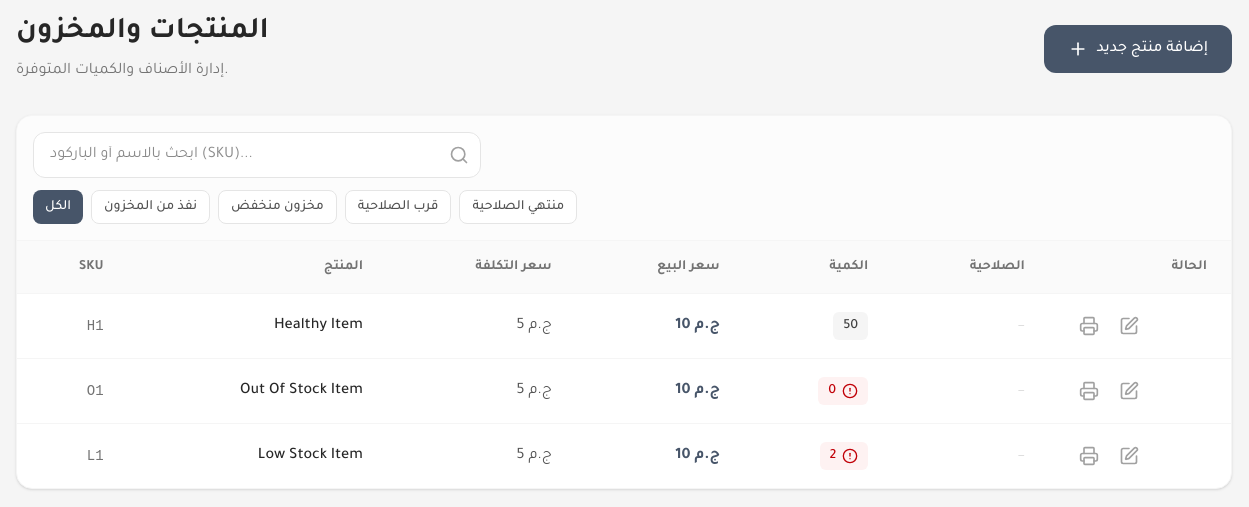
it: Products filter chips › filters to only out-of-stock items when that chip is clicked
Expected: the text "Healthy Item" is shown, [128,294,387,358]
Click the button "نفذ من المخزون": (151, 207) [91,190,210,224]
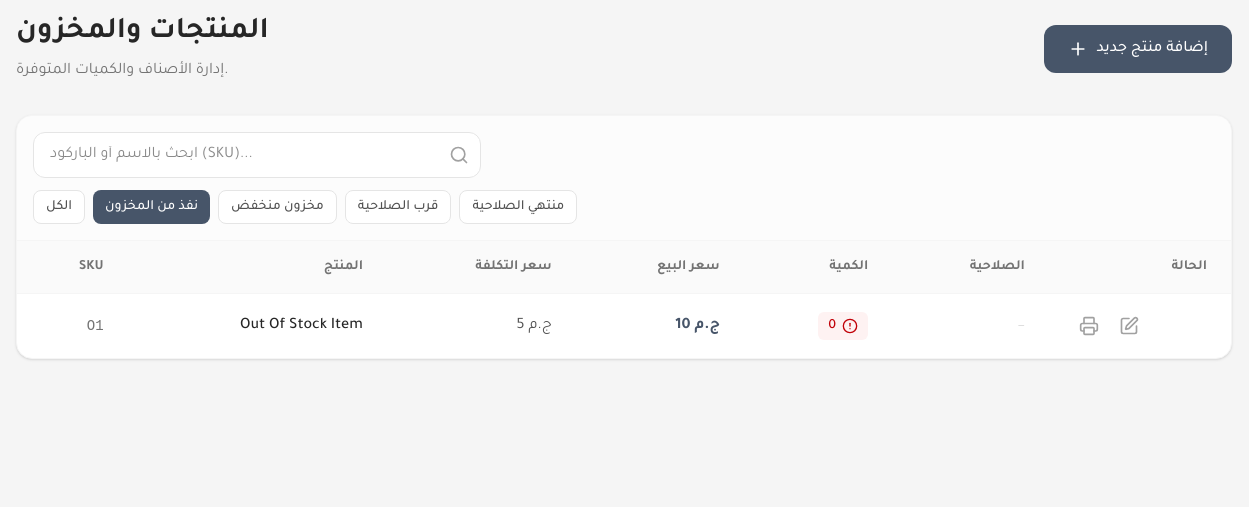
Expected: the text "Out Of Stock Item" is shown, [128,294,387,358]
Expected: the text "Healthy Item" is gone
Expected: the text "Low Stock Item" is gone
